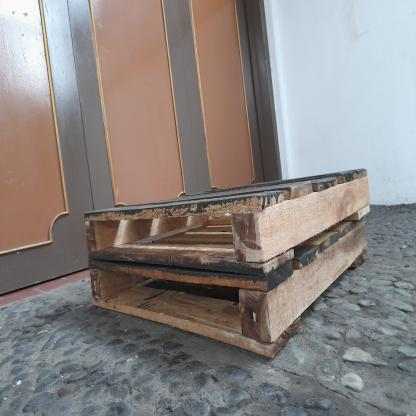Wooden-Pallet: (87, 216, 370, 362), (84, 168, 372, 272)
